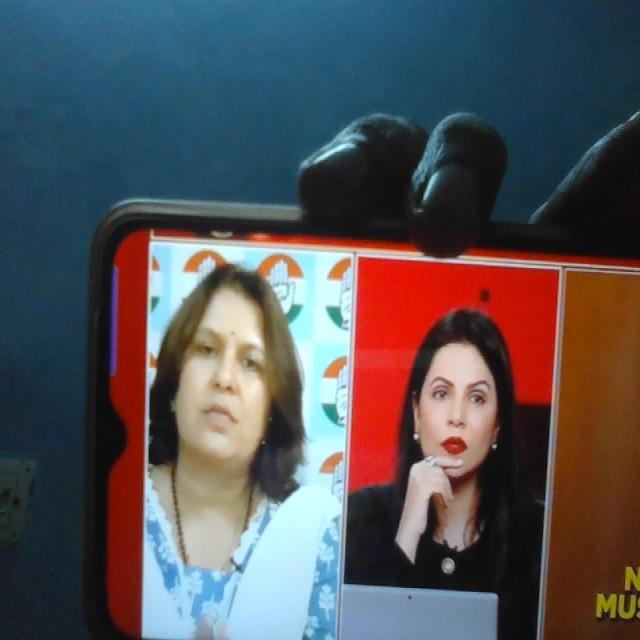fake: (168, 253, 284, 472), (409, 303, 512, 497)
